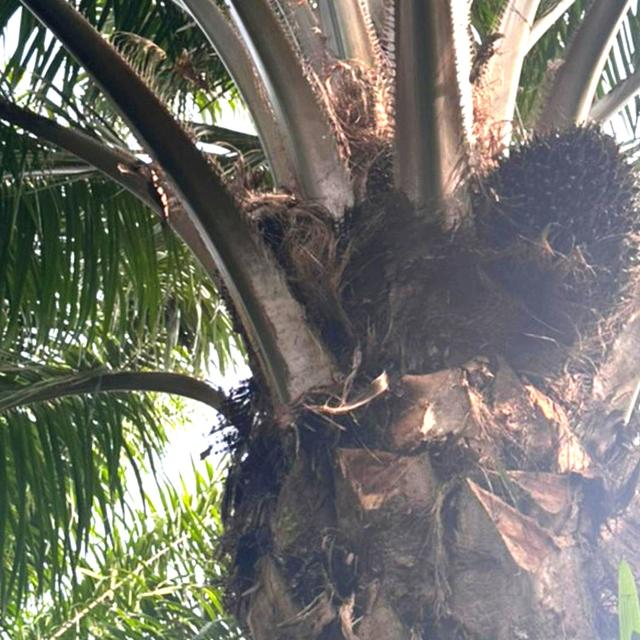unripe: (476, 118, 640, 306)
